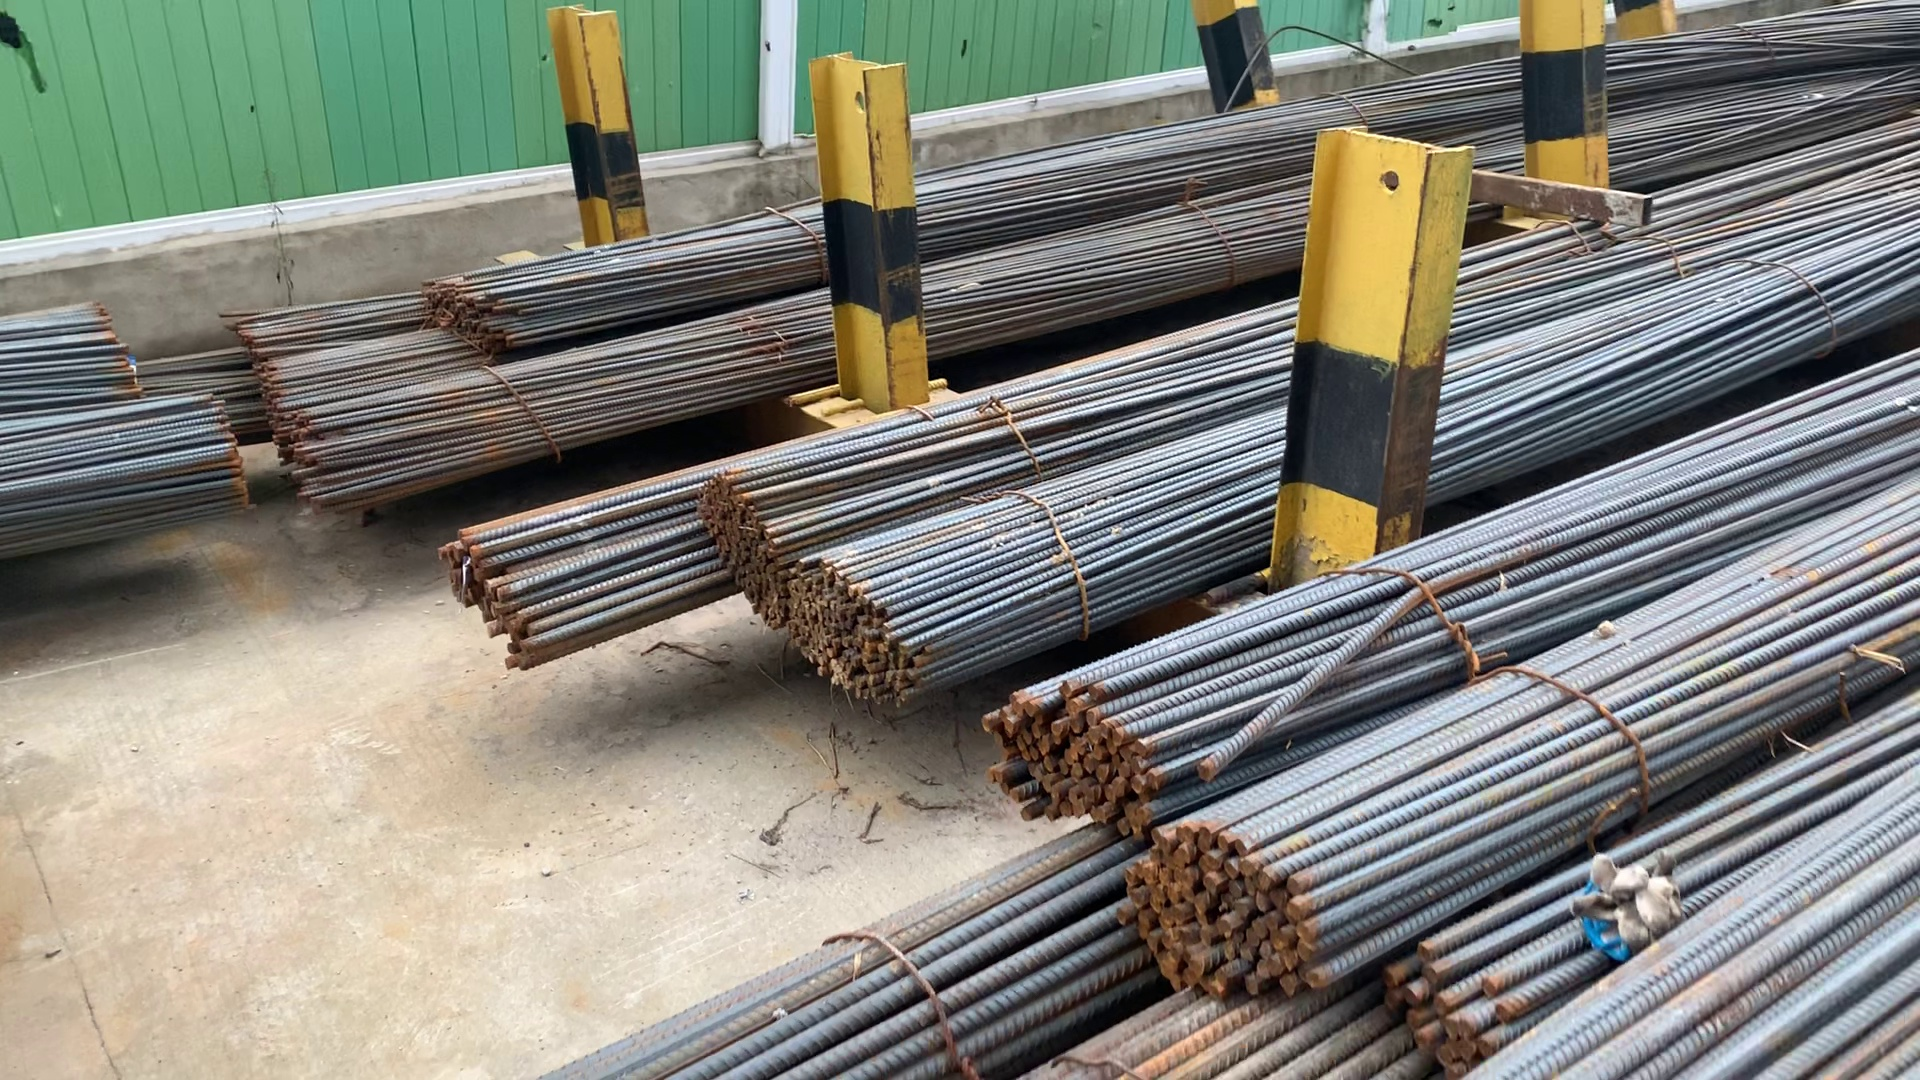rebar: (1120, 829, 1341, 998), (967, 687, 1164, 831), (785, 554, 931, 716), (1383, 943, 1515, 1077), (436, 520, 545, 675), (692, 475, 783, 622), (419, 270, 538, 357)
